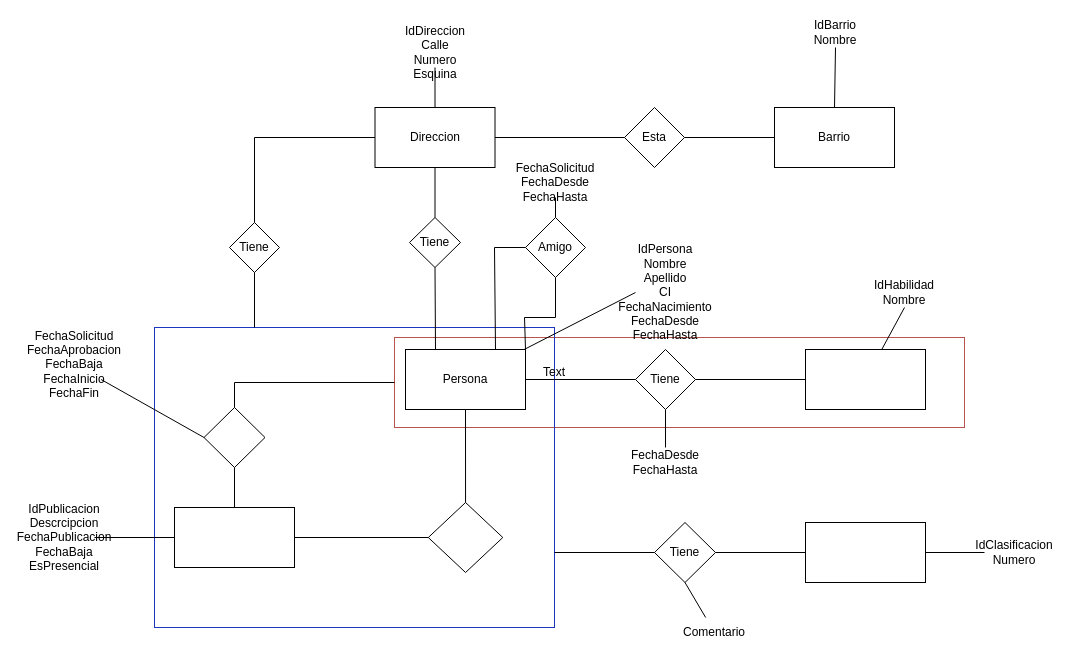
Some shapes in this 1070 by 664 pixel diagram are drawn without their labels. The shapes that lost their labels are listed below. From the top down, each one's centre as x and y in pixels, then its label:
At (865,379): "Habilidades".
At (234,437): "Postea".
At (234,537): "Publicacion".
At (465,537): "Cita".
At (865,552): "Calificacion".
